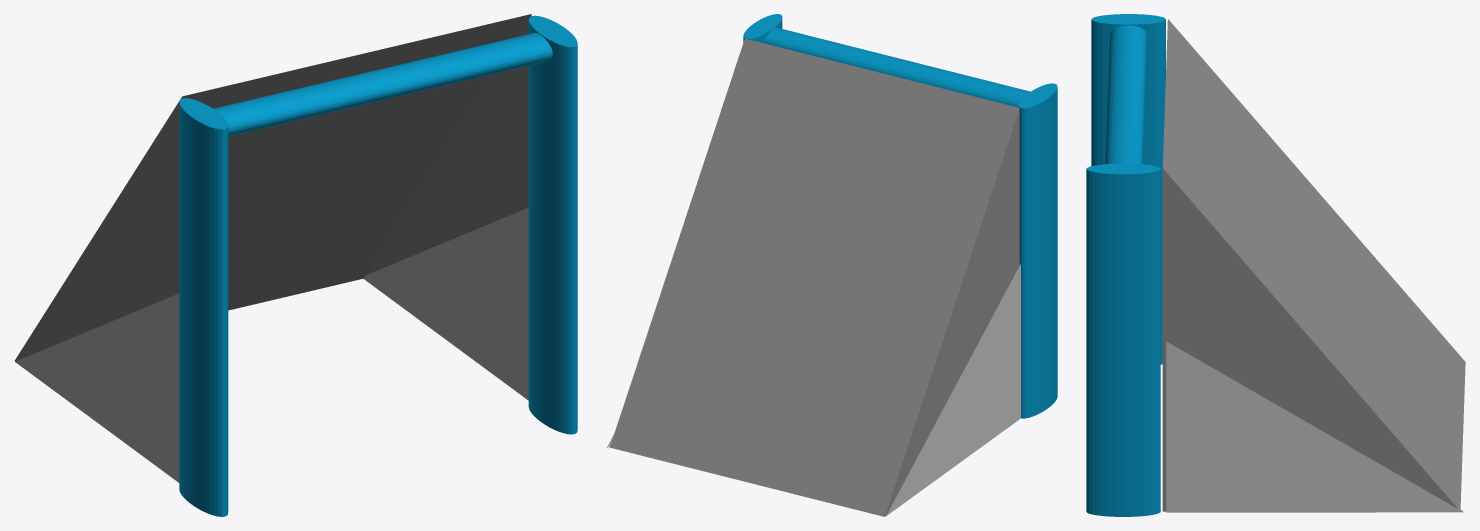
Rendered from rightgoal.obj.
3 views of the same model, side by side, from view 1: azimuth 30°, elevation 25°; view 2: azimuth 150°, elevation 25°; view 3: azimuth 270°, elevation 25° (orthographic). The views are drawn at different scales.
Parts seen in each view (by area): view 1: rightgoal; view 2: rightgoal; view 3: rightgoal.
Part boxes in pixels (x1=…): rightgoal: x1=14, y1=14, x2=577, y2=516; rightgoal: x1=607, y1=14, x2=1057, y2=516; rightgoal: x1=1086, y1=14, x2=1465, y2=516.
Size of the model in its own units: 1 by 1 by 1.
